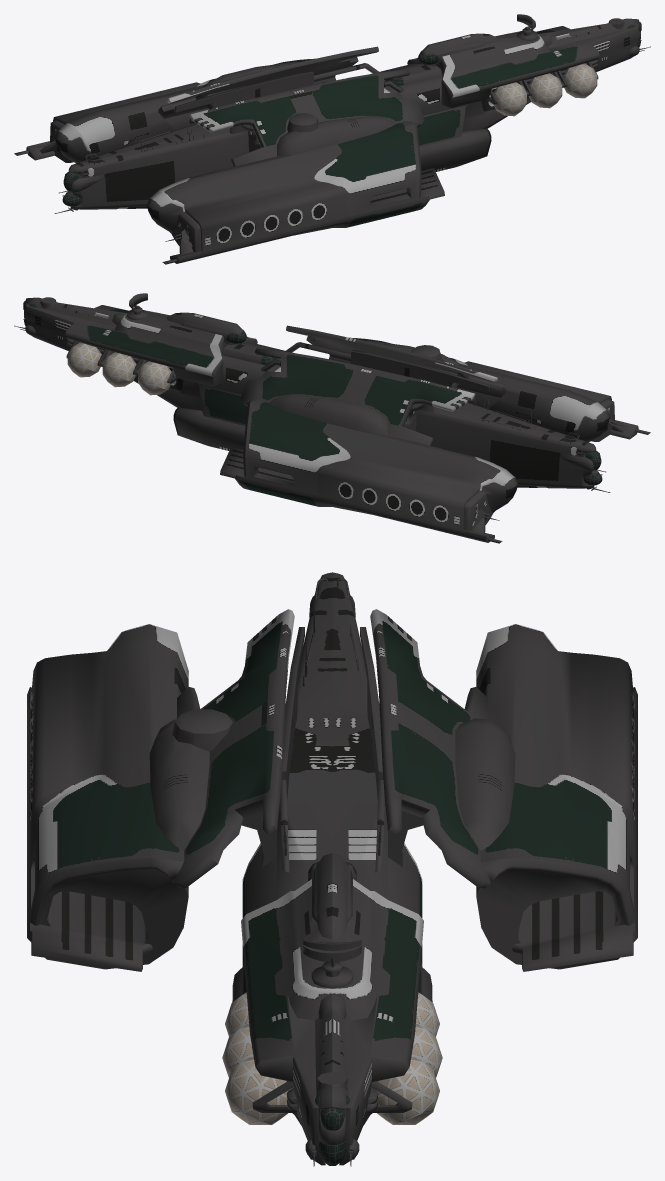
File: algos.glb
The picture shows the model from 3 angles, top to bottom: view 1: azimuth 30°, elevation 25°; view 2: azimuth 150°, elevation 25°; view 3: azimuth 270°, elevation 25°; orthographic projection. The views are drawn at different scales.
Visible parts, largest first — view 1: Algos; view 2: Algos; view 3: Algos.
Boxes of the visible parts, <box> form: Algos: <box>14,14,650,264</box>; Algos: <box>14,293,650,543</box>; Algos: <box>27,572,637,1166</box>.
Bounding box in the file's own units: 239 × 49.48 × 107.
Materials: 1 (1 with a texture image).
